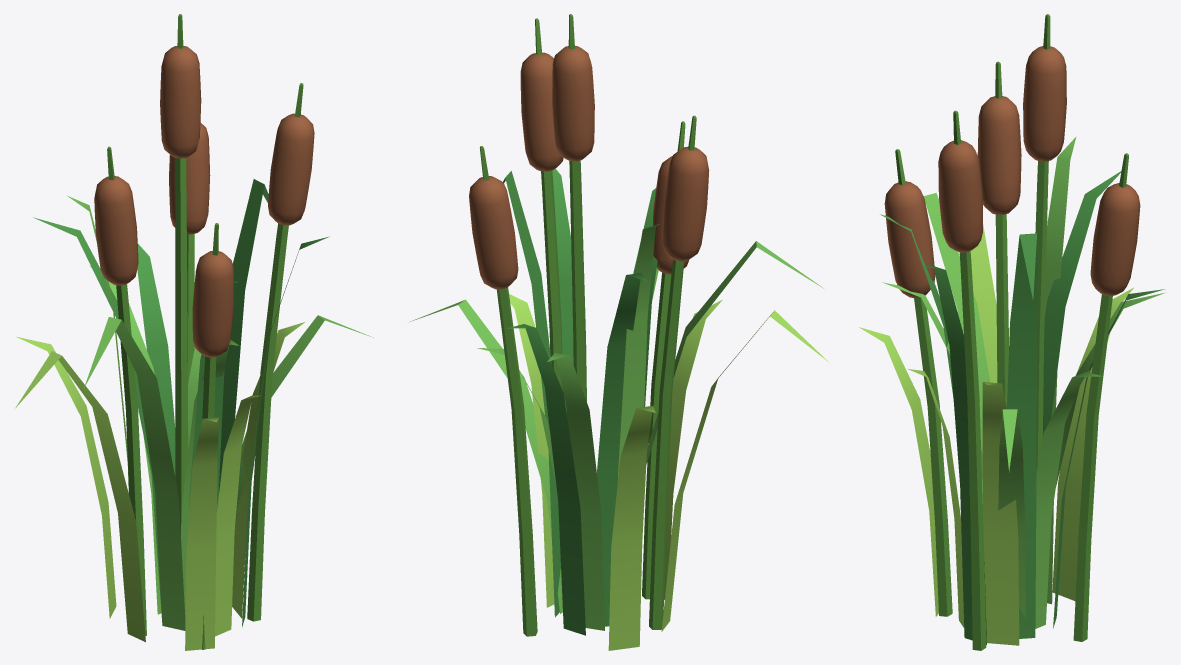
Rendered from prop_reeds.glb.
3 views of the same model, side by side, from view 1: azimuth 30°, elevation 25°; view 2: azimuth 150°, elevation 25°; view 3: azimuth 270°, elevation 25° (orthographic). The views are drawn at different scales.
Parts seen in each view (by area): view 1: prop_reeds; view 2: prop_reeds; view 3: prop_reeds.
Boxes of the visible parts, x1,y1,x2,y2 form: prop_reeds: [14, 14, 373, 650]; prop_reeds: [410, 14, 828, 650]; prop_reeds: [859, 14, 1165, 650].
Size of the model in its own units: 1.1 by 1.61 by 0.7331.
